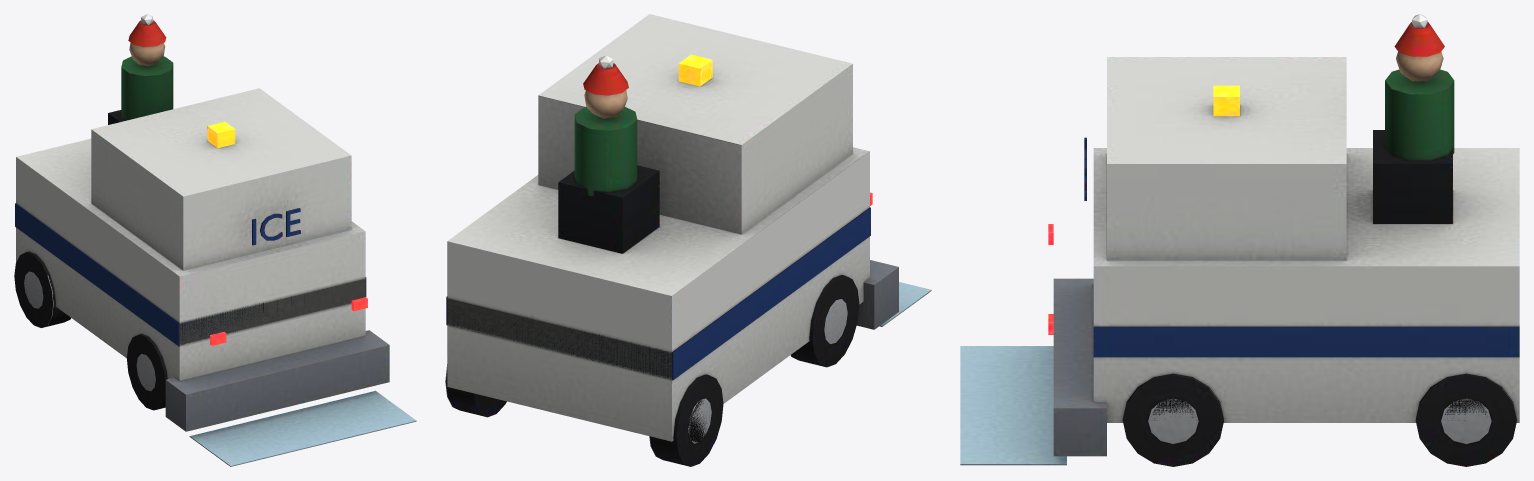
Rendered from pulidora_hielo.glb.
3 renders of one model, left to right at view 1: azimuth 30°, elevation 25°; view 2: azimuth 150°, elevation 25°; view 3: azimuth 270°, elevation 25°, orthographic. The views are drawn at different scales.
Visible parts, largest first — view 1: pulidora_hielo; view 2: pulidora_hielo; view 3: pulidora_hielo.
Part boxes in pixels (box(x1,y1,x2,y2)): pulidora_hielo: box(14, 14, 416, 466); pulidora_hielo: box(445, 14, 931, 466); pulidora_hielo: box(960, 14, 1519, 466).
Bounding box in the file's own units: 2.3 × 3.25 × 4.2.
Materials: 1 (1 with a texture image).
